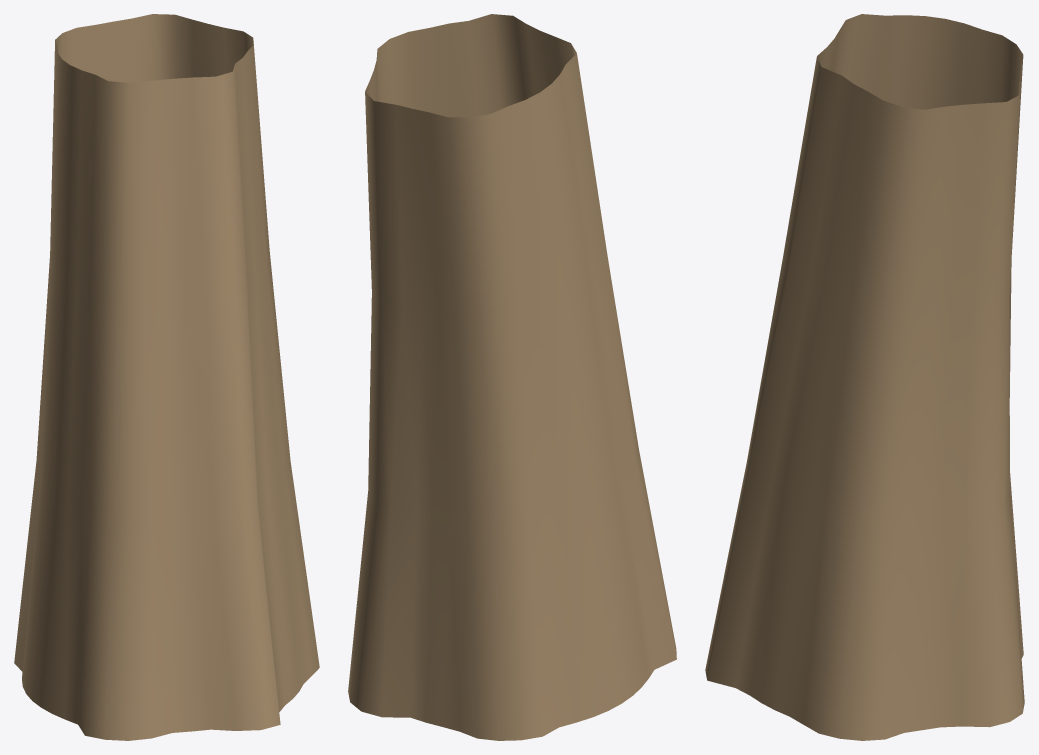
File: tree_base.FBX
3 renders of one model, left to right at view 1: azimuth 30°, elevation 25°; view 2: azimuth 150°, elevation 25°; view 3: azimuth 270°, elevation 25°, orthographic.
Parts seen in each view (by area): view 1: Tree; view 2: Tree; view 3: Tree.
Part boxes in pixels (x1,y1,x2,y2): Tree: (14,14,319,740); Tree: (348,14,676,740); Tree: (705,14,1024,740).
Bounding box in the file's own units: 19.71 × 44.96 × 20.52.
